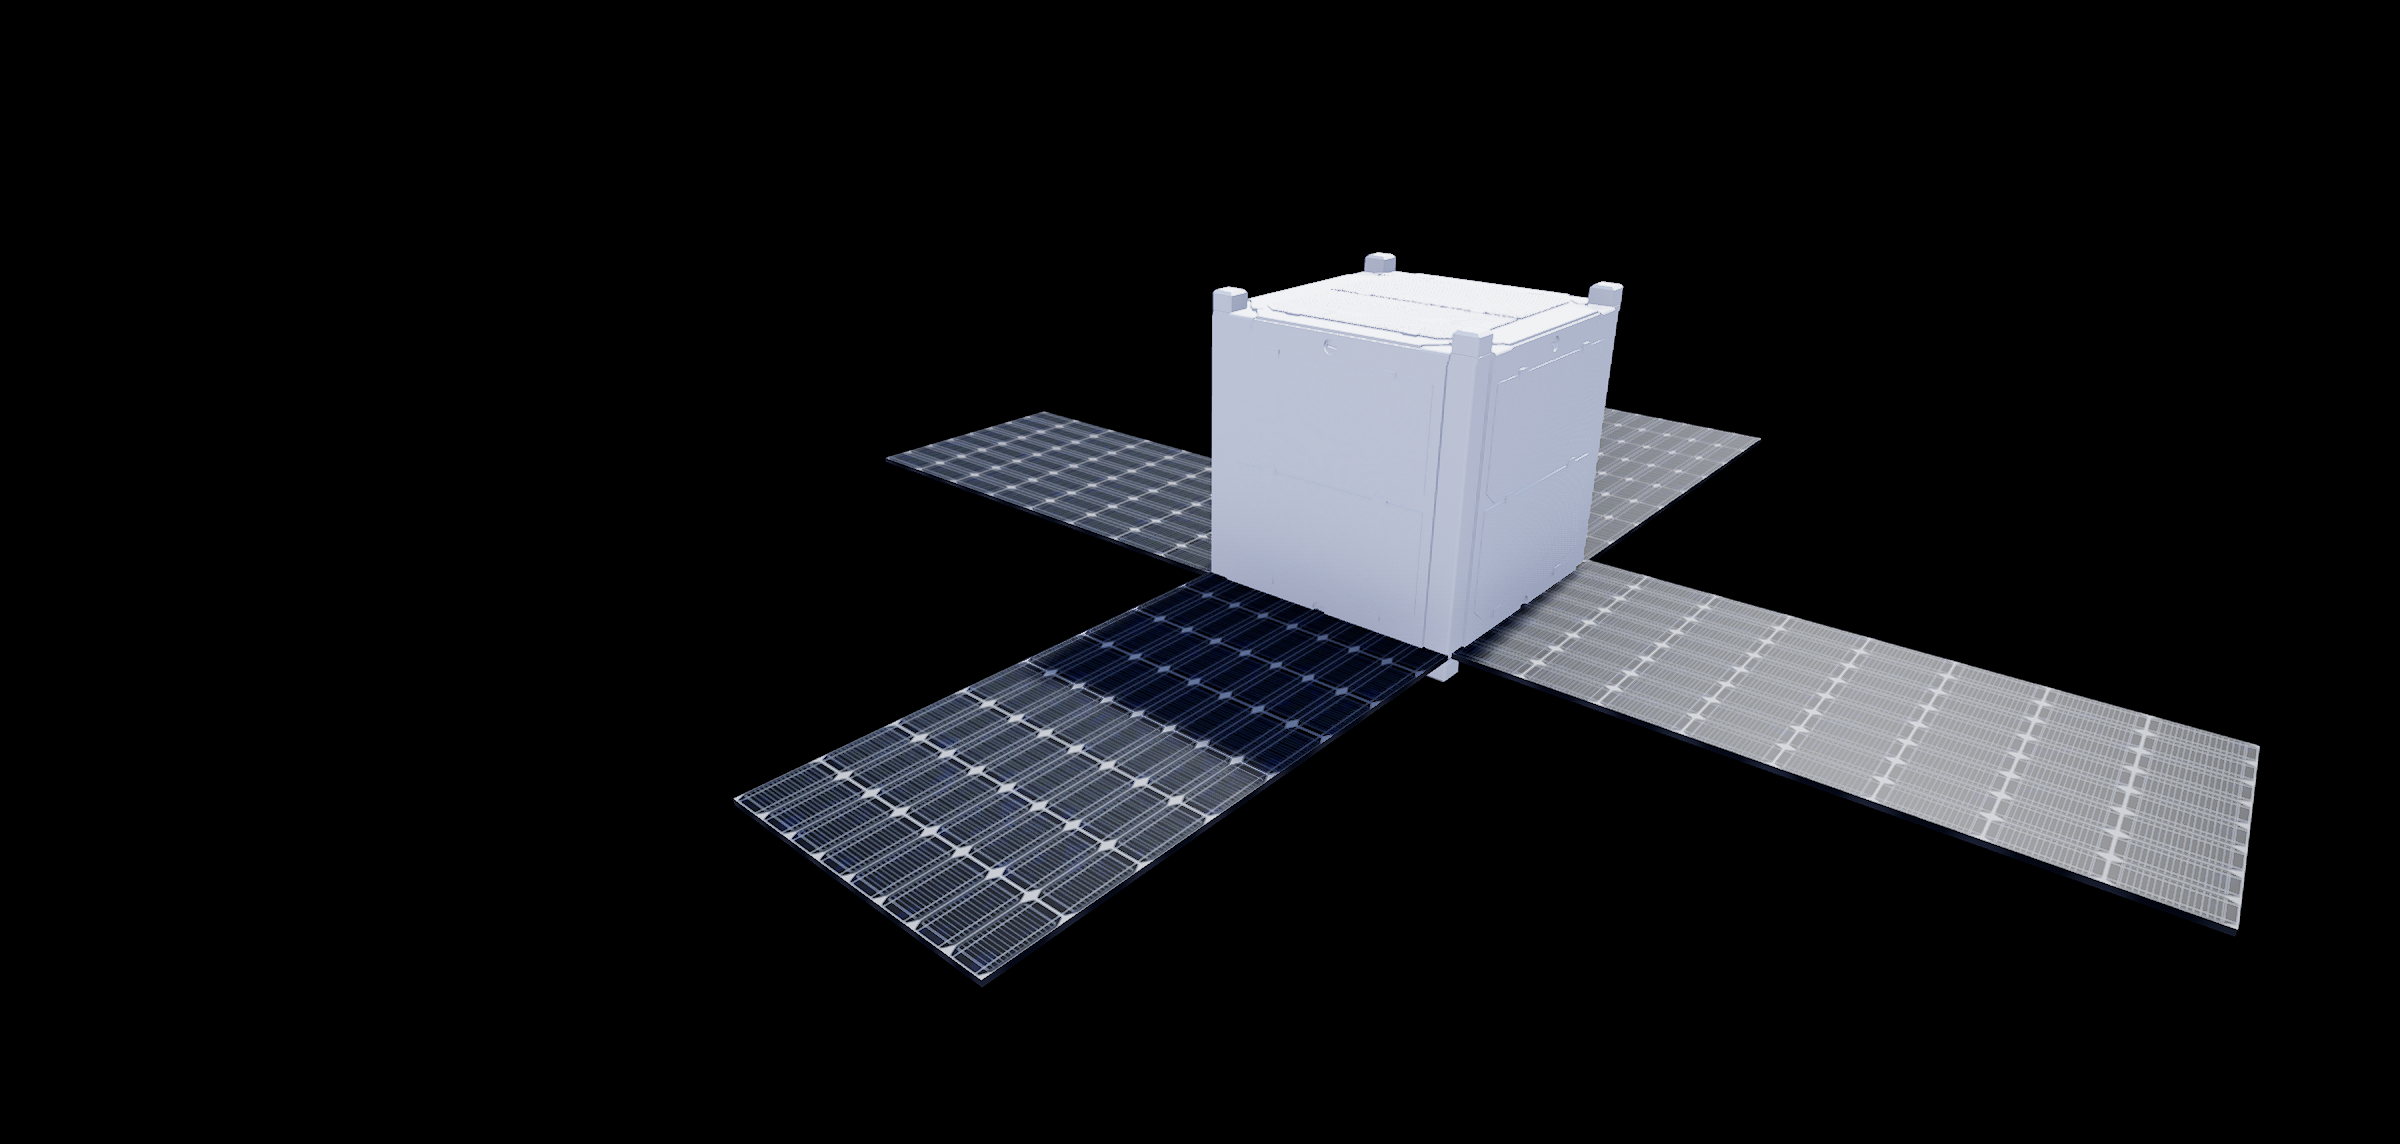satellite: (719, 196, 2284, 1015)
